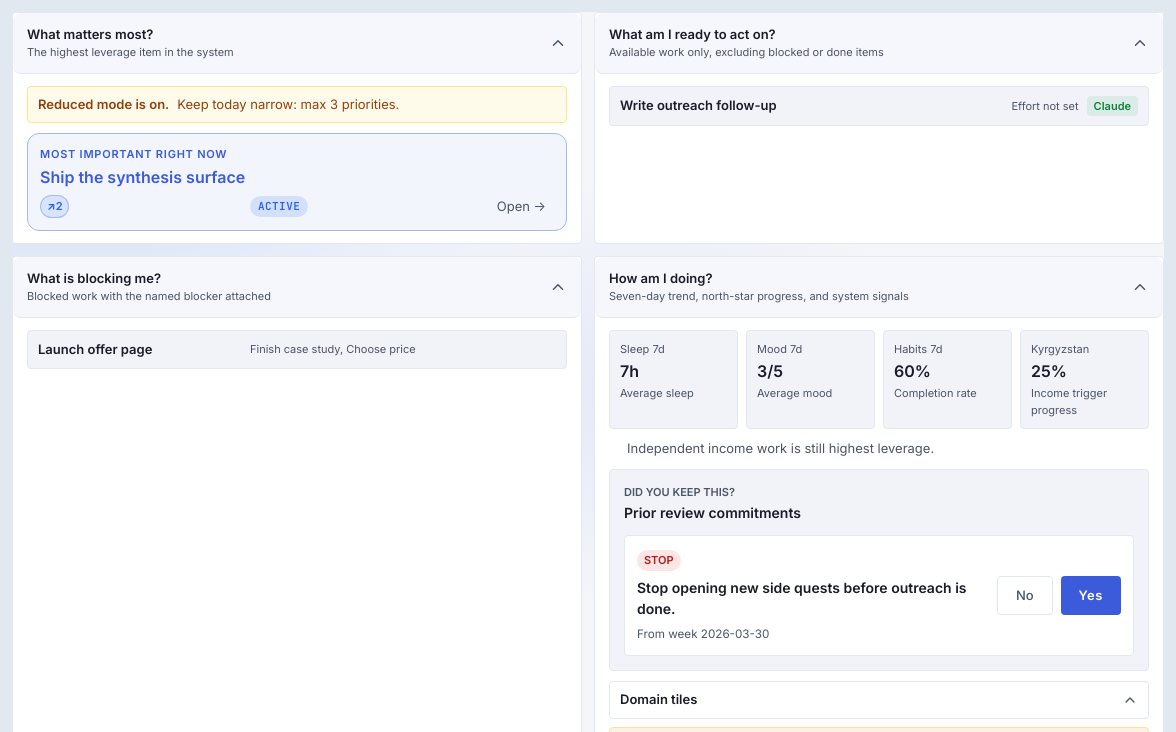
Test: IntelligenceSurface › lets prior commitments be marked from the Q4 panel
The width and height of the screenshot is (1176, 732).
Expected: the text "Did you keep this?" is shown, [624,485,735,499]
Click the button "Yes" at [1091, 596], box [1061,576,1121,615]
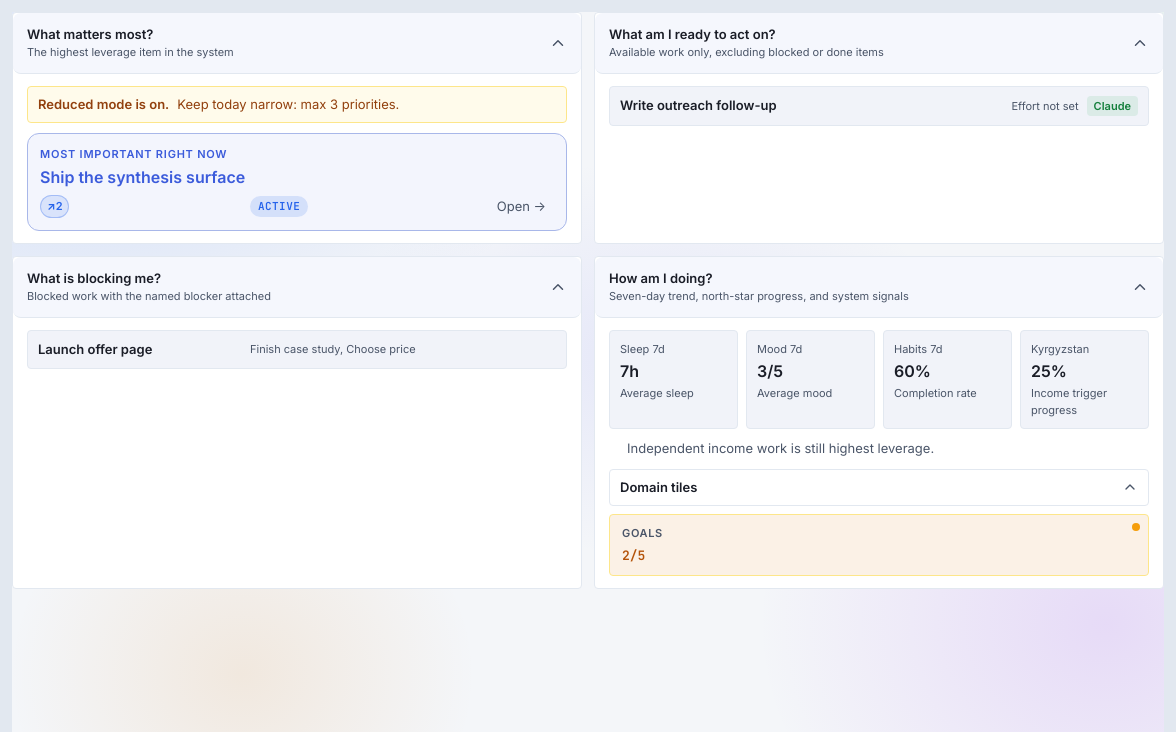
Now the text "Stop opening new side quests" is gone
